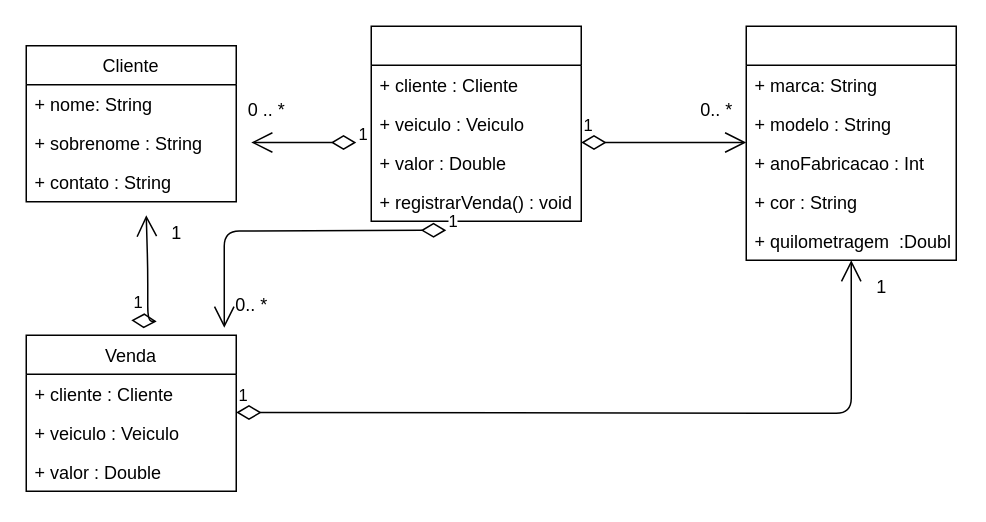
Image size: 986x522. Some labels were removed from this diagram. Here are the shapes that lost their labels. From the top down, the box of each, then its label:
(370, 25, 581, 221): Concessionaria
(745, 25, 956, 260): Veiculo
